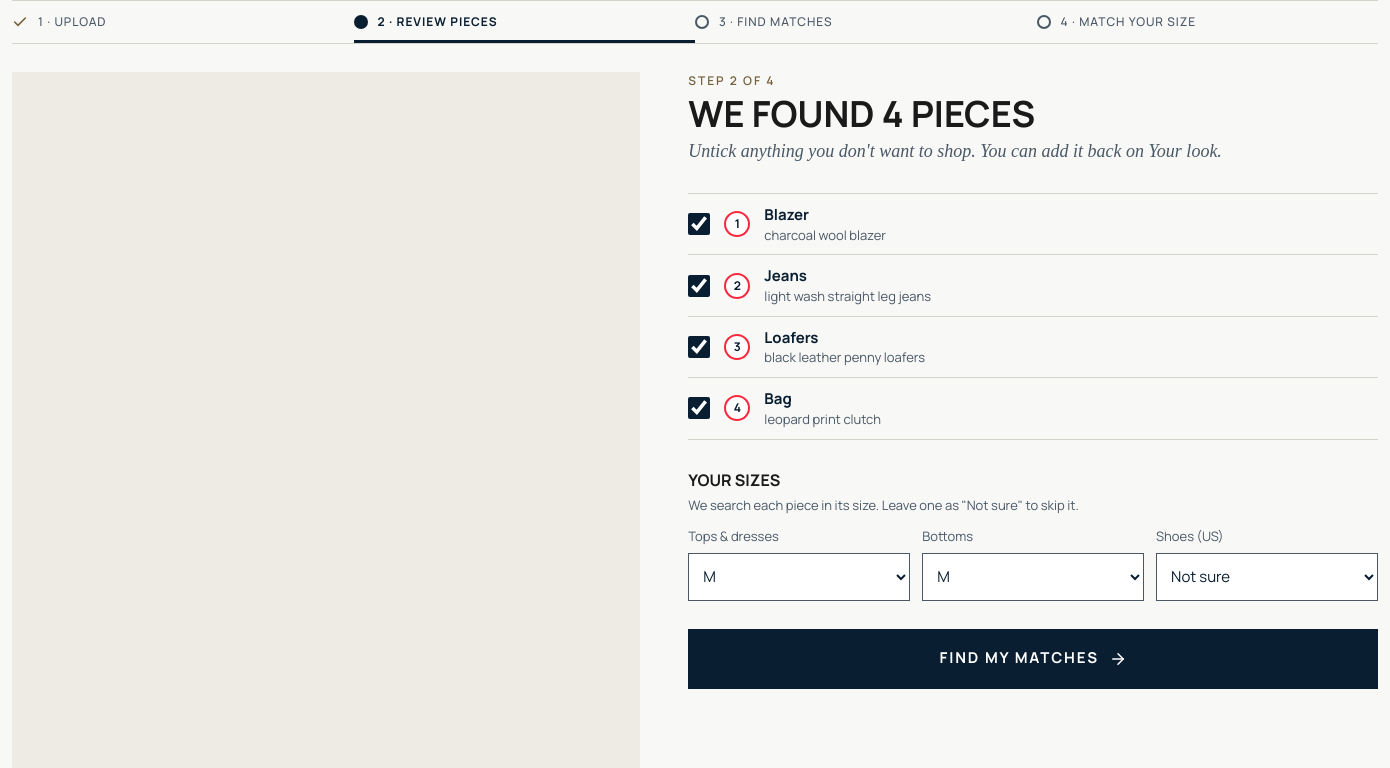
Test: ReviewPieces › needs at least one piece ticked
Later steps or results of the test are not shown.
Click the checkbox labelled "1 Blazer charcoal wool blazer" at (699, 224), box 688,213 -> 710,235
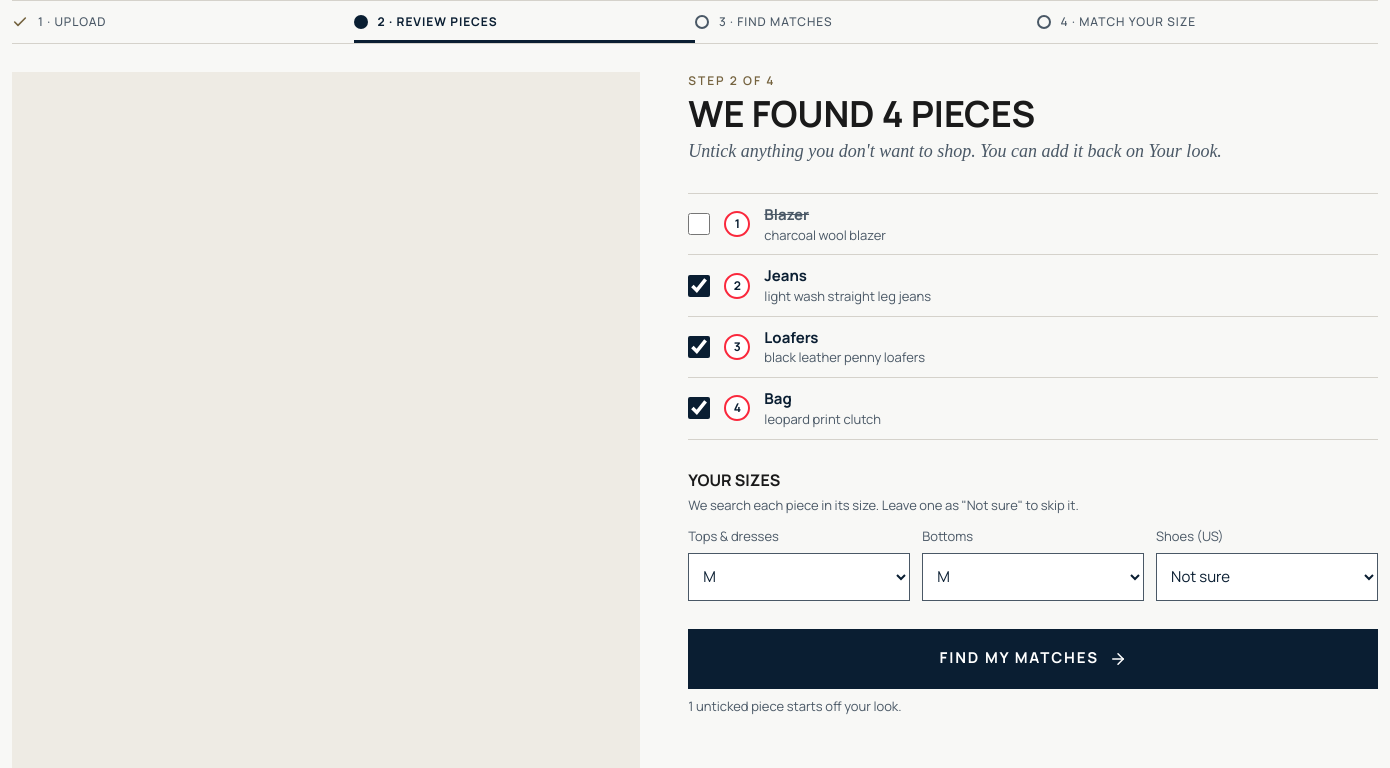
Click the checkbox labelled "2 Jeans light wash straight leg jeans" at (699, 286), box 688,275 -> 710,297
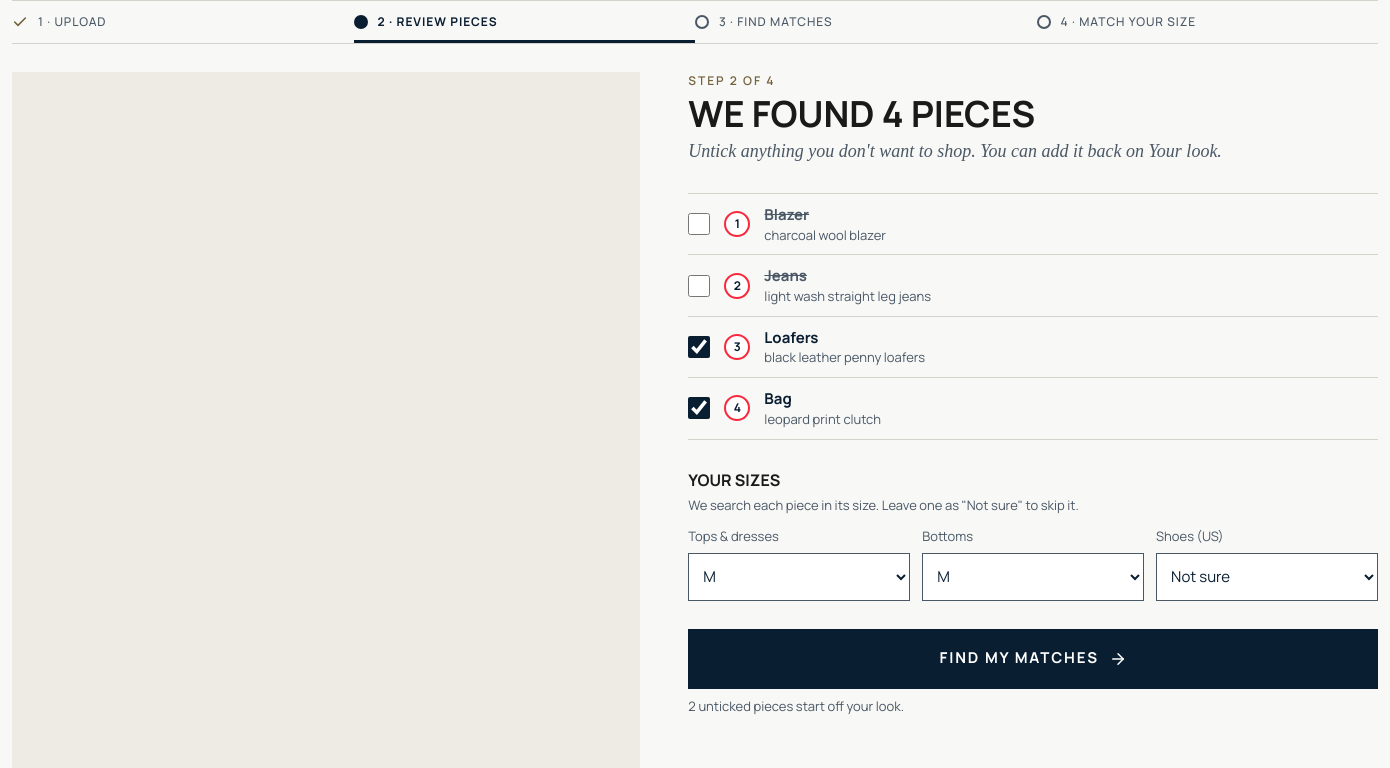
Click the checkbox labelled "3 Loafers black leather penny loafers" at (699, 347), box 688,336 -> 710,358
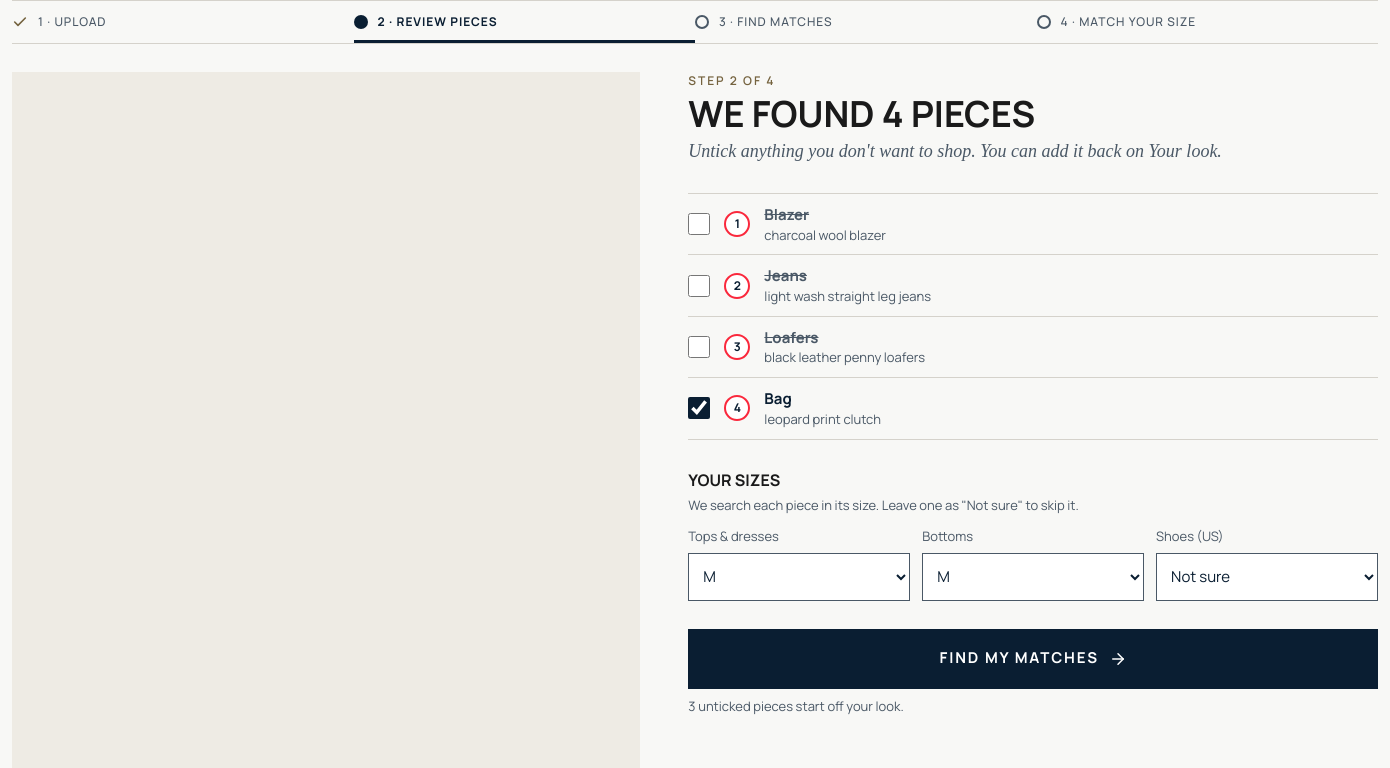
Click the checkbox labelled "4 Bag leopard print clutch" at (699, 408), box 688,397 -> 710,419
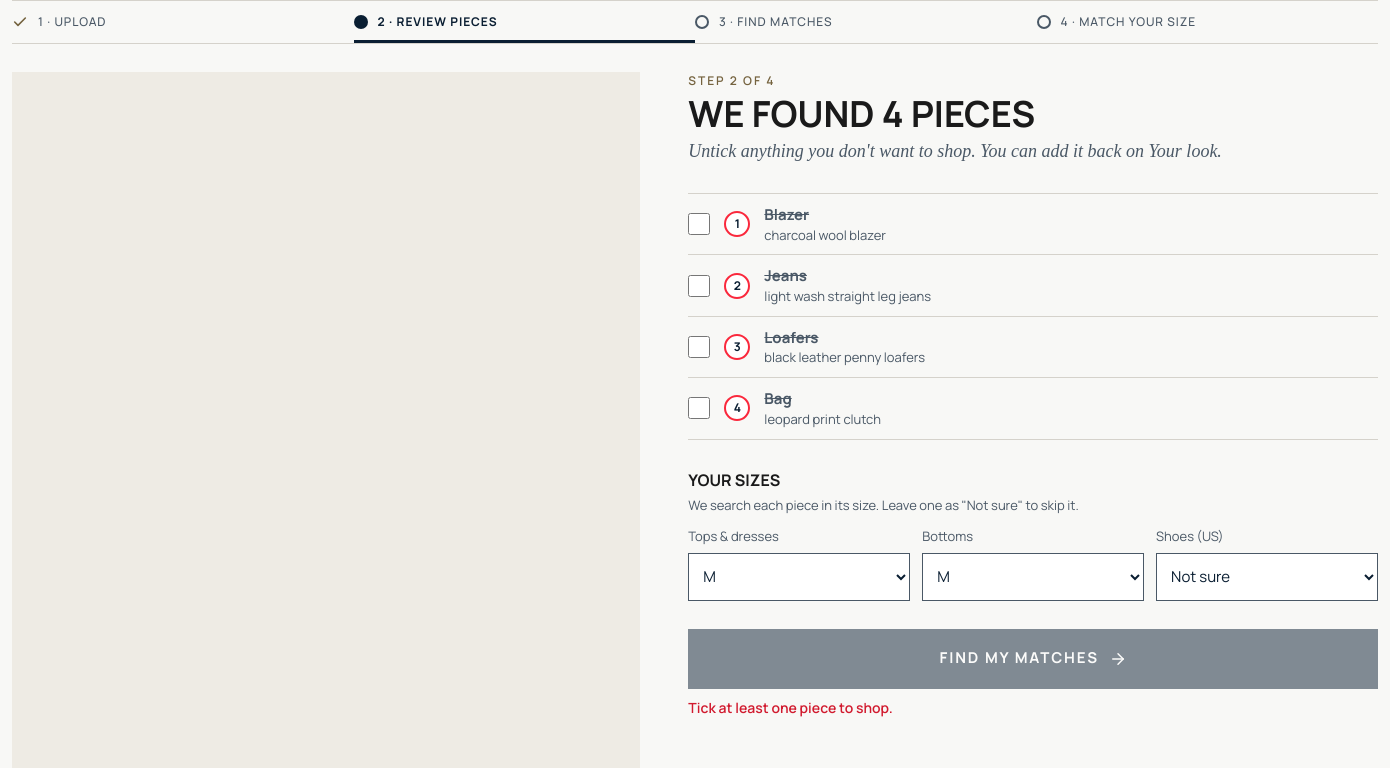
Result: the message shows "Tick at least one piece" at 688,698 -> 893,716
